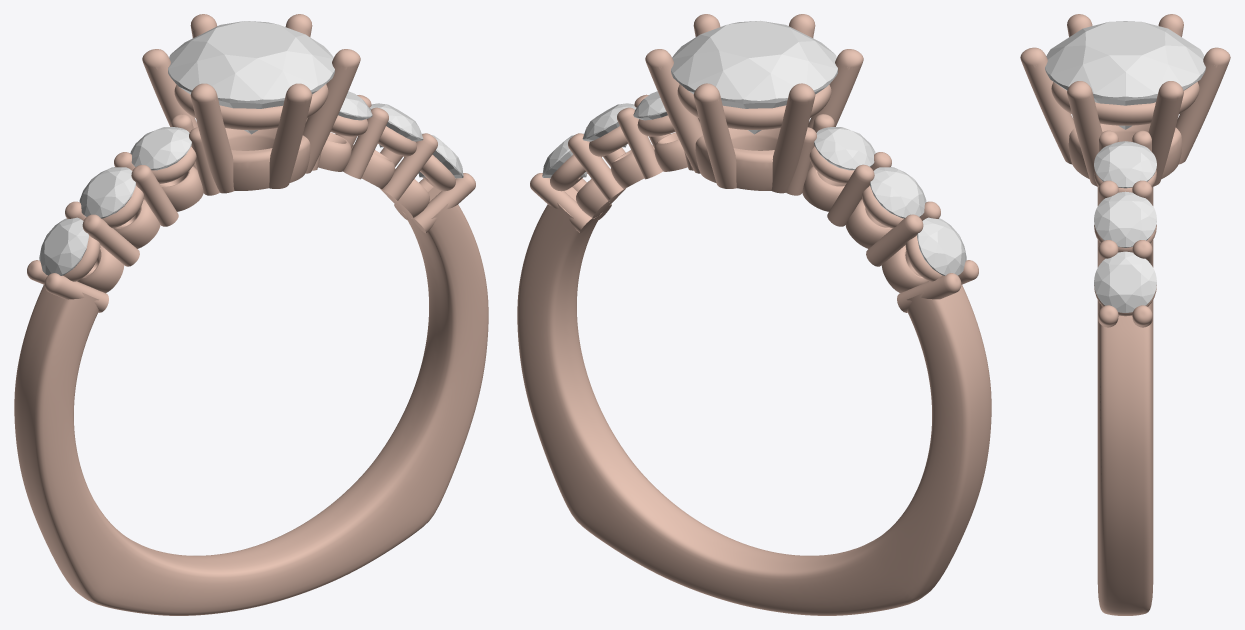
File: diamond-round-rosegold-6prong-europeanshank-3stone.glb
3 views of the same model, side by side, from view 1: azimuth 30°, elevation 25°; view 2: azimuth 150°, elevation 25°; view 3: azimuth 270°, elevation 25° (orthographic). The views are drawn at different scales.
Visible parts, largest first — view 1: metal, stone, side.002, side.001, side, side.004, side.003, side.005; view 2: metal, stone, side.002, side.001, side, side.004, side.003, side.005; view 3: metal, stone, side.005, side.004, side.003.
Boxes of the visible parts, left/top/right/bottom form: metal: left=14, top=14, right=488, bottom=615; stone: left=168, top=21, right=334, bottom=134; side.002: left=39, top=217, right=88, bottom=275; side.001: left=79, top=167, right=135, bottom=218; side: left=130, top=127, right=191, bottom=170; side.004: left=369, top=103, right=423, bottom=147; side.003: left=338, top=91, right=372, bottom=120; side.005: left=418, top=133, right=463, bottom=178; metal: left=517, top=14, right=991, bottom=615; stone: left=671, top=20, right=837, bottom=134; side.002: left=917, top=217, right=966, bottom=275; side.001: left=870, top=167, right=926, bottom=218; side: left=814, top=127, right=875, bottom=170; side.004: left=582, top=103, right=636, bottom=147; side.003: left=633, top=91, right=667, bottom=120; side.005: left=542, top=133, right=587, bottom=177; metal: left=1020, top=14, right=1230, bottom=615; stone: left=1045, top=21, right=1205, bottom=129; side.005: left=1094, top=251, right=1156, bottom=312; side.004: left=1094, top=191, right=1156, bottom=247; side.003: left=1094, top=141, right=1156, bottom=188.
Bounding box in the file's own units: 20.11 × 23.61 × 8.35.
